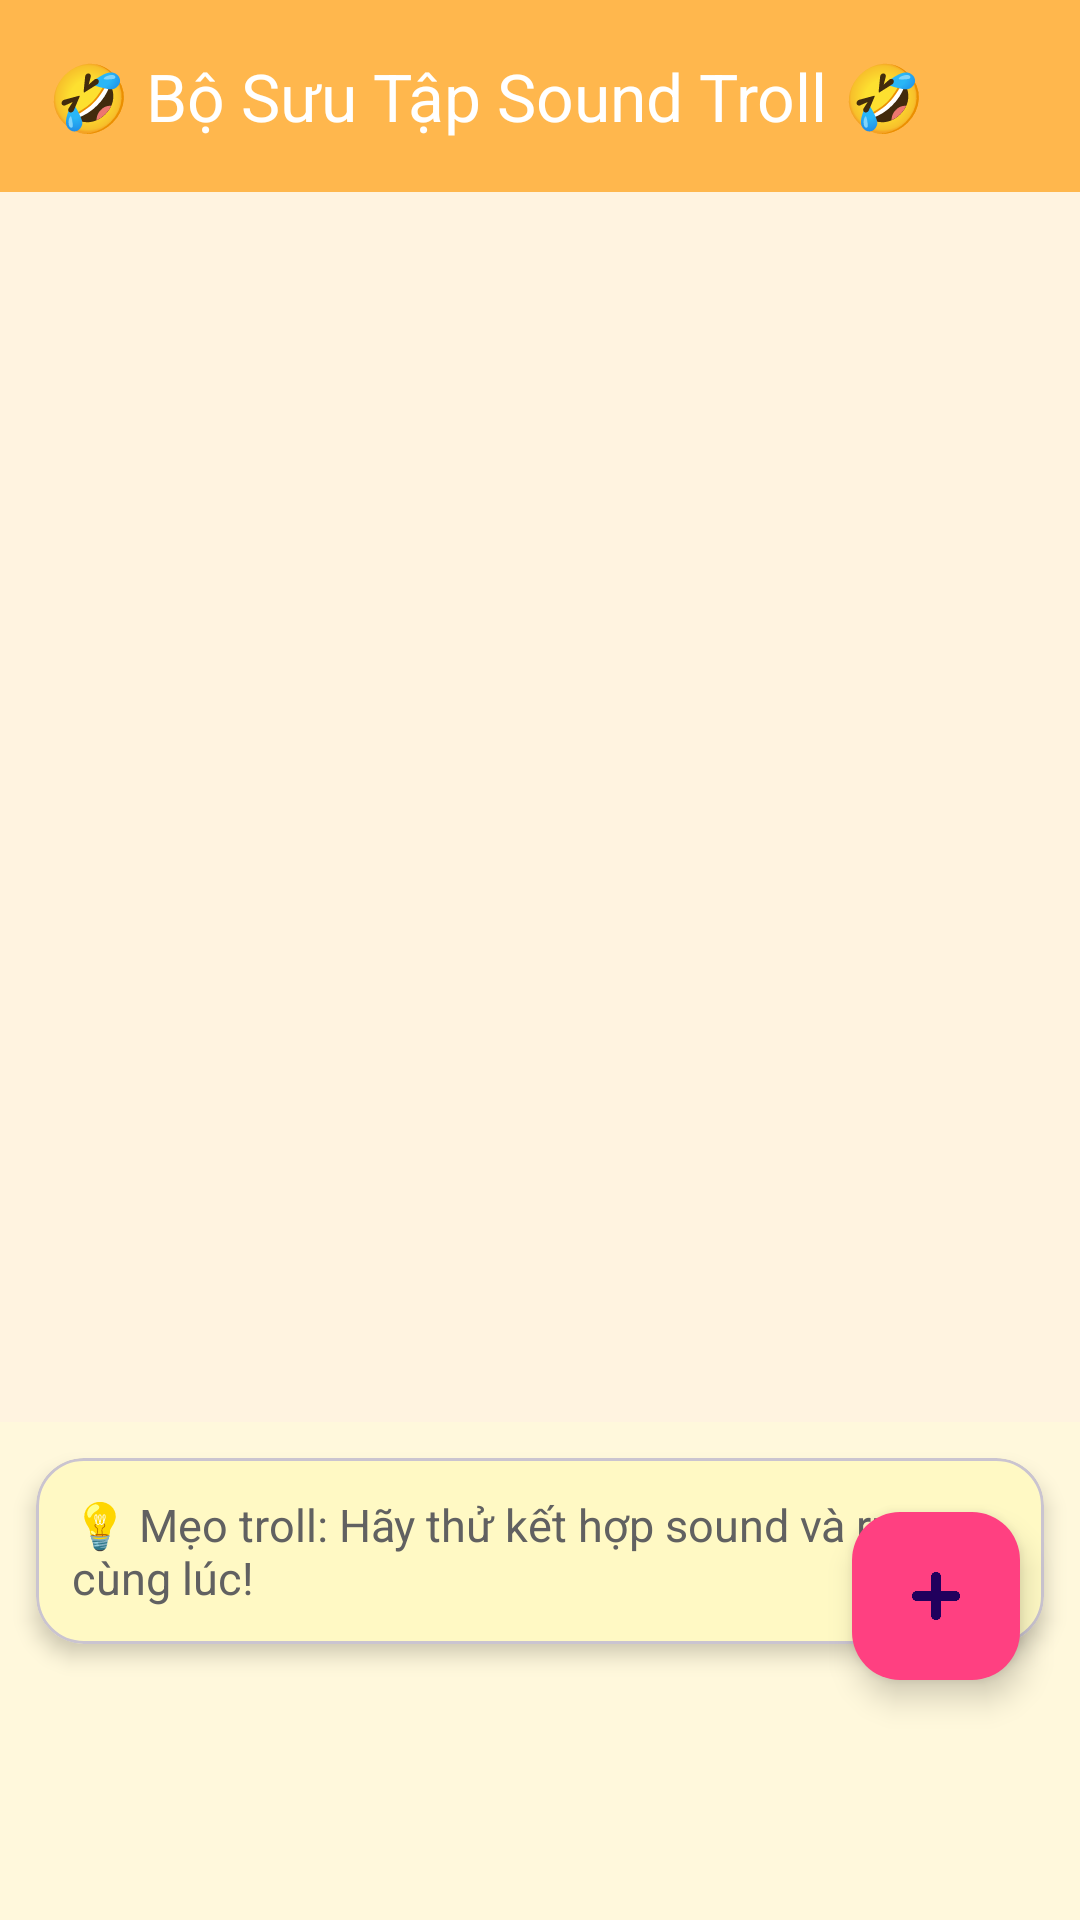

Screen size 1080px×1920px. Icon name, then its box in pixels as (x1, y1, x2, y2):
Menu hành động: (852, 1512, 1020, 1680)
